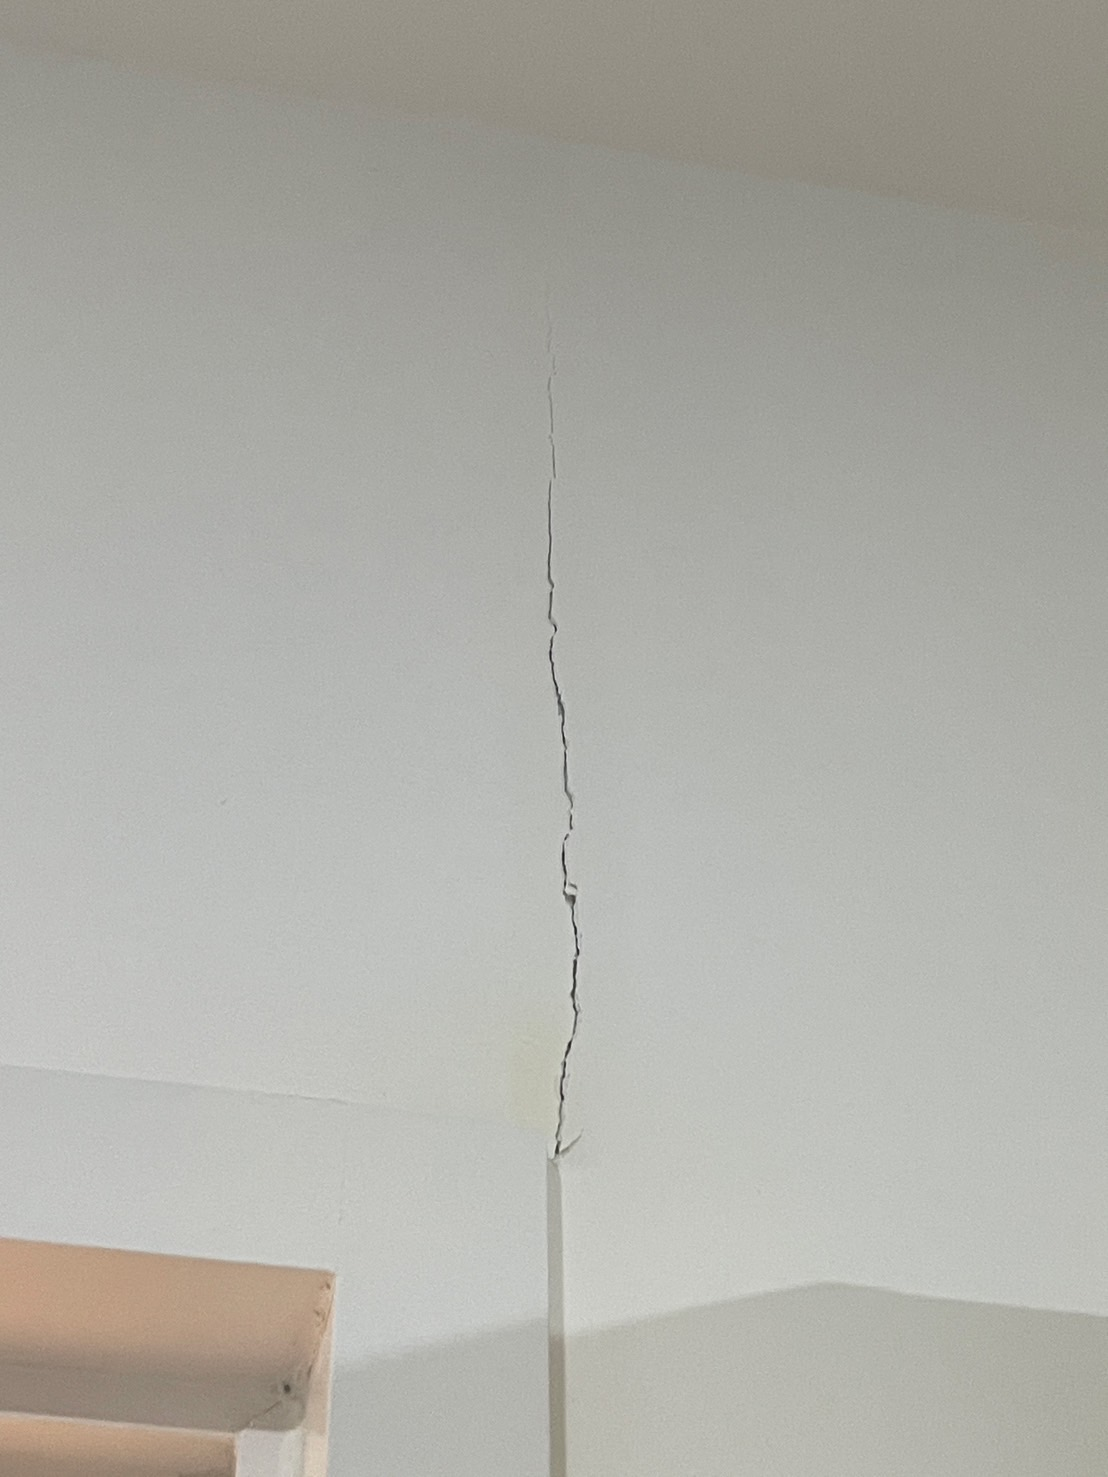Low: (502, 187, 635, 1162)
